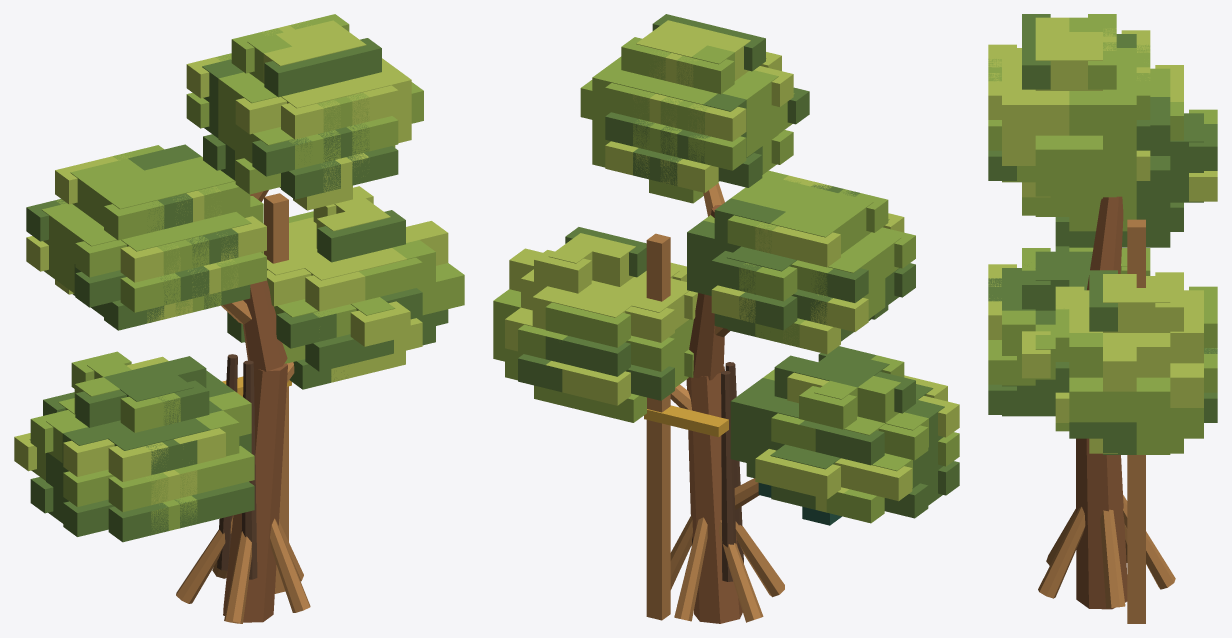
The model's file is tree_sapling.glb.
The picture shows the model from 3 angles, left to right: view 1: azimuth 30°, elevation 25°; view 2: azimuth 150°, elevation 25°; view 3: azimuth 270°, elevation 25°; orthographic projection. The views are drawn at different scales.
Visible parts, largest first — view 1: canopy__tree_leaf_light.030, canopy__tree_leaf_mid.030, canopy__tree_leaf_sun.030, body__wood.035, body__wood2.034, body__wood_dark.038; view 2: canopy__tree_leaf_light.030, canopy__tree_leaf_mid.030, canopy__tree_leaf_sun.030, body__wood2.034, body__wood.035, body__wood_dark.038, body__hay.008; view 3: canopy__tree_leaf_light.030, canopy__tree_leaf_sun.030, canopy__tree_leaf_mid.030, body__wood2.034, body__wood.035.
Boxes of the visible parts, x1,y1,x2,y2 form: canopy__tree_leaf_light.030: (29, 14, 464, 533); canopy__tree_leaf_mid.030: (26, 38, 448, 542); canopy__tree_leaf_sun.030: (14, 20, 448, 504); body__wood.035: (223, 280, 287, 622); body__wood2.034: (176, 190, 310, 623); body__wood_dark.038: (217, 354, 257, 579); canopy__tree_leaf_light.030: (493, 37, 959, 523); canopy__tree_leaf_mid.030: (518, 14, 959, 518); canopy__tree_leaf_sun.030: (505, 20, 959, 512); body__wood2.034: (646, 183, 784, 622); body__wood.035: (686, 205, 742, 623); body__wood_dark.038: (691, 362, 743, 581); body__hay.008: (644, 405, 728, 437); canopy__tree_leaf_light.030: (988, 14, 1217, 454); canopy__tree_leaf_sun.030: (988, 17, 1217, 453); canopy__tree_leaf_mid.030: (988, 14, 1217, 454); body__wood2.034: (1038, 219, 1175, 623); body__wood.035: (1076, 196, 1127, 609).
Bounding box in the file's own units: 1.43 × 1.91 × 0.681.
